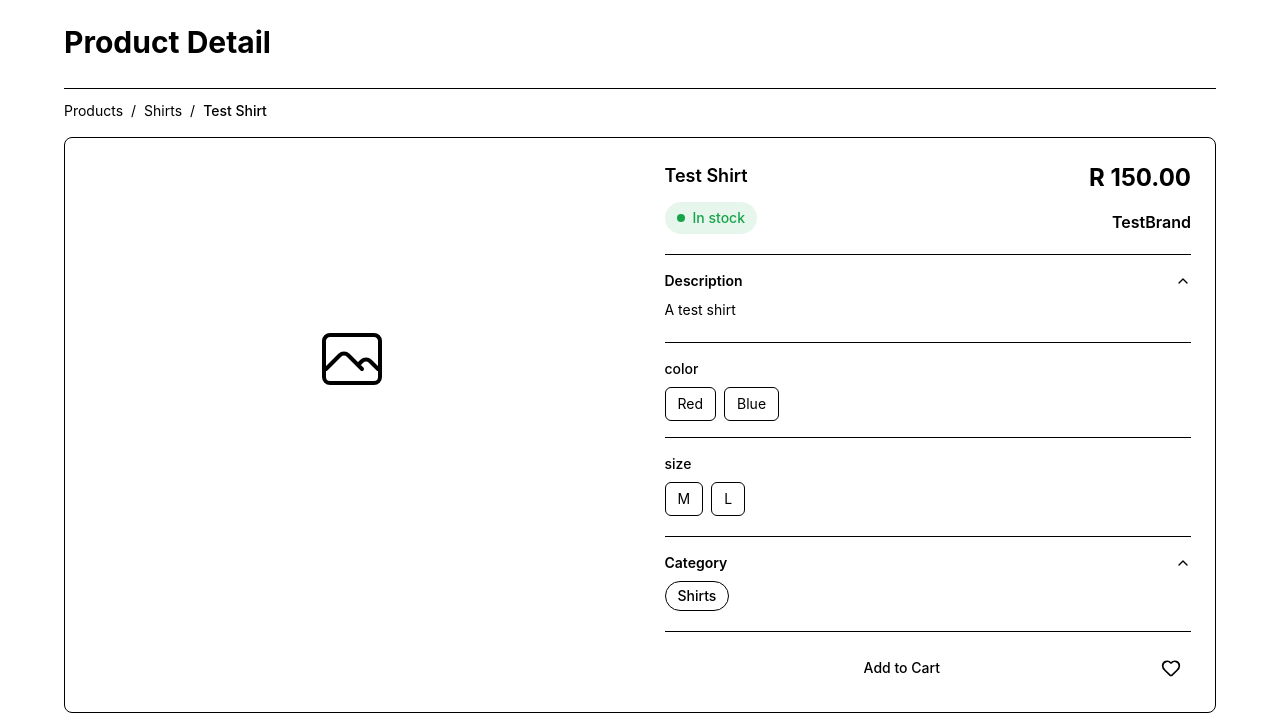
Test case: ProductDetailPage — cart integration › shows confirmation message with "View cart" link after adding to cart
Click the button "Red".
click(690, 404)  # box [664,387,716,421]
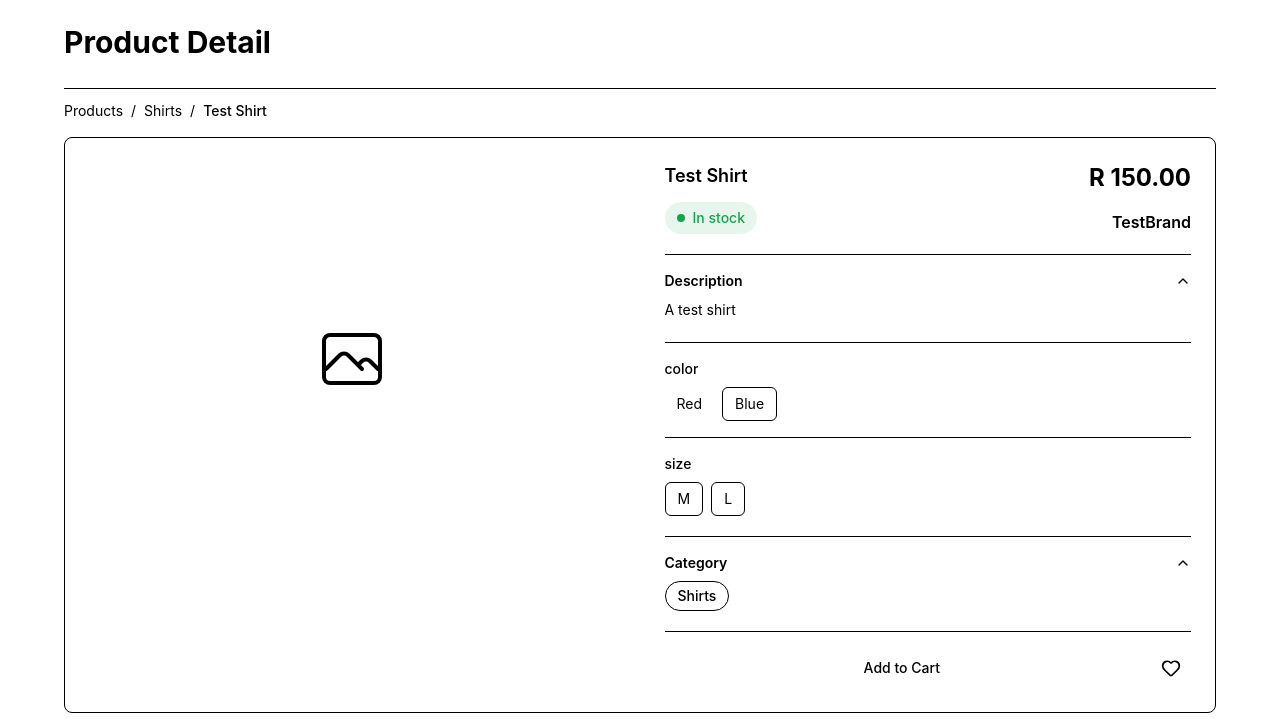
Click the button "M".
click(684, 499)  # box [664,482,703,516]
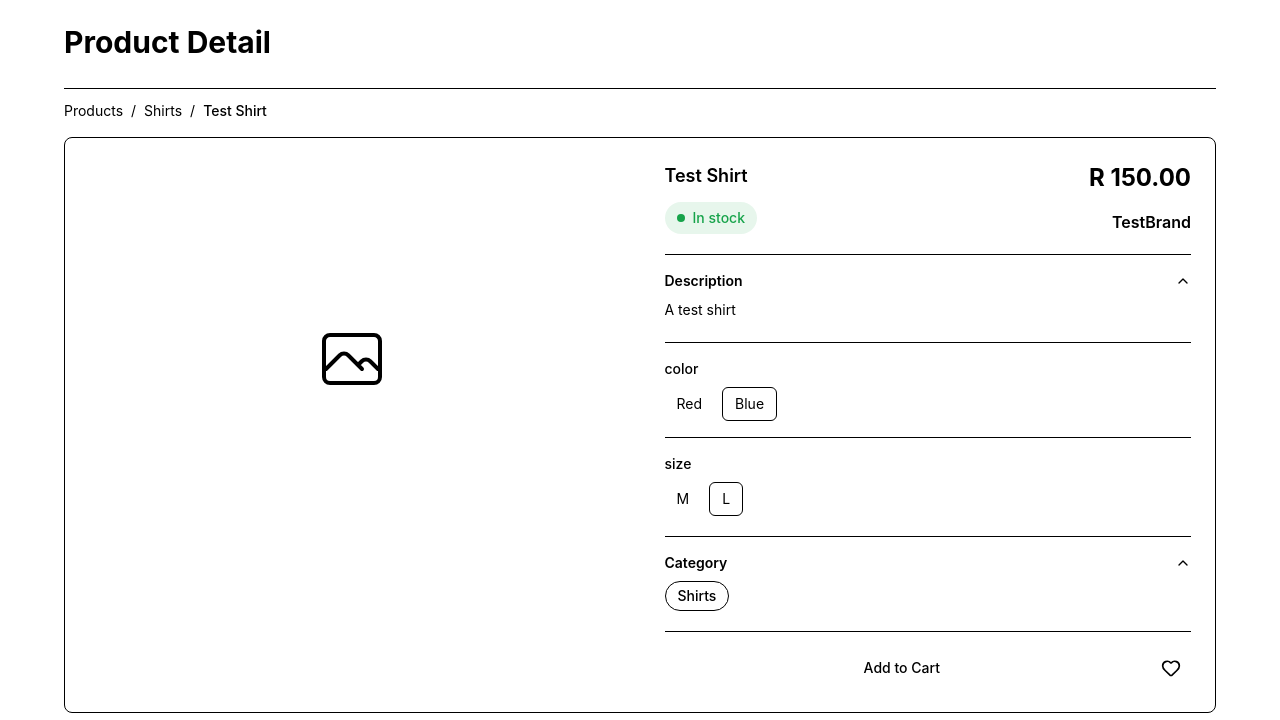
Click the button "Add to Cart".
click(902, 668)  # box [664,650,1139,686]
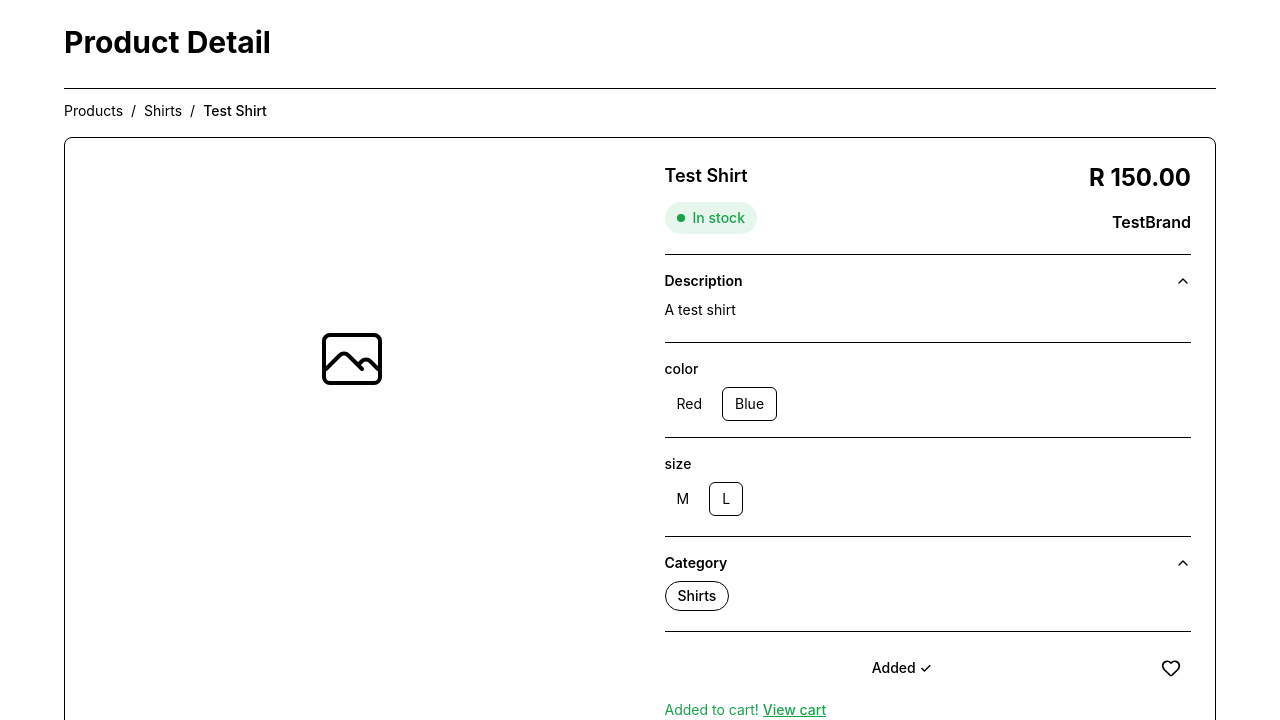
Expected: the text "Added to cart! View cart" is shown, [664,701,826,718]
Expected: the button "Added ✓" is disabled, [664,650,1139,686]
